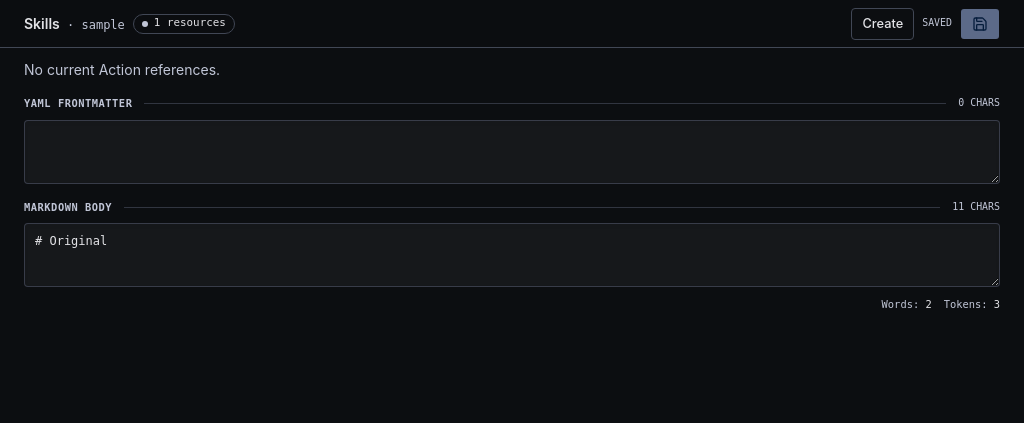
retains the dirty resource after a failed save and adopts the returned baseline after success
This screenshot has width=1024, height=423.
Step 1. Replace the text in the text box labelled "Markdown Body" with "# Draft" → (512, 255), box [24,223,1000,287]
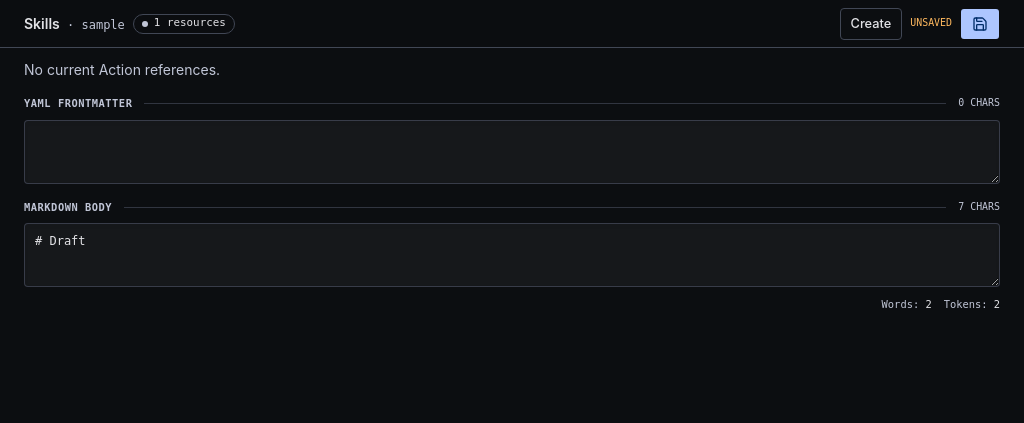
Step 2. Click the button named "Save Markdown" → (980, 24), box [960,8,1000,40]
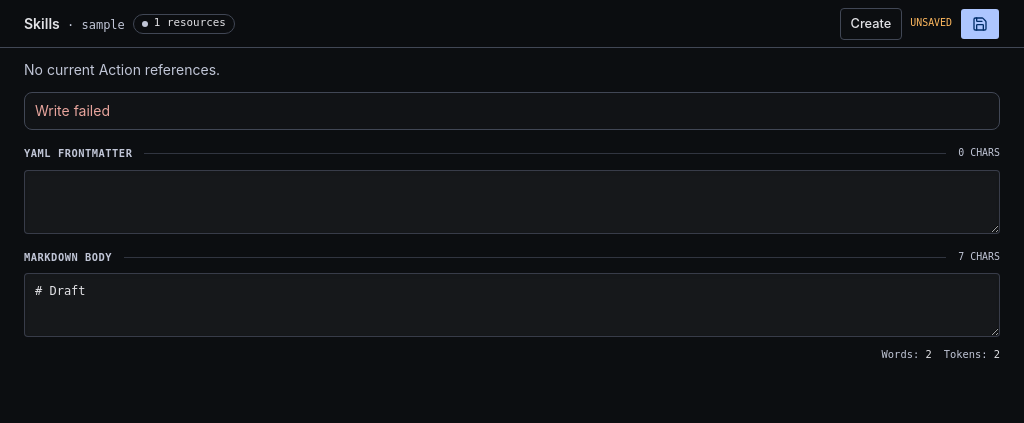
Result: the button named "Save Markdown" is enabled
Result: the text "Write failed" is shown at [35,102,110,119]
Step 3. Click the button named "Save Markdown" → (980, 24), box [960,8,1000,40]
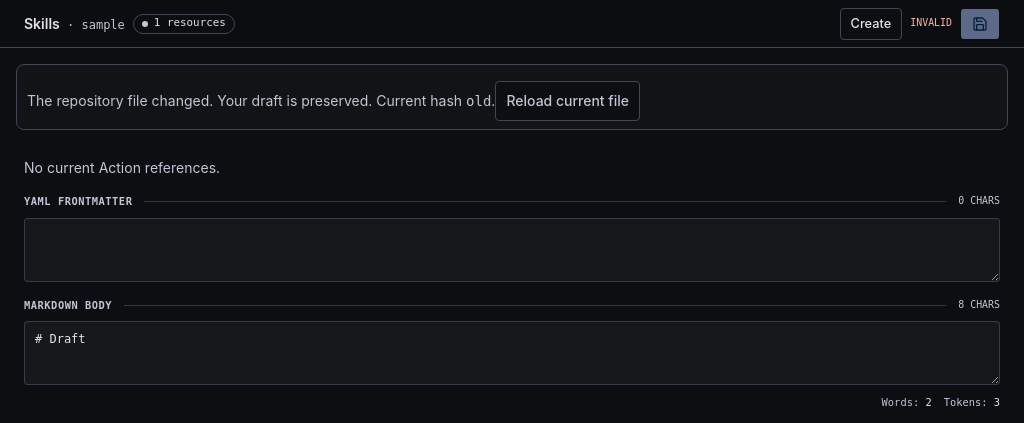
Result: the button named "Save Markdown" is disabled at [960,8,1000,40]
